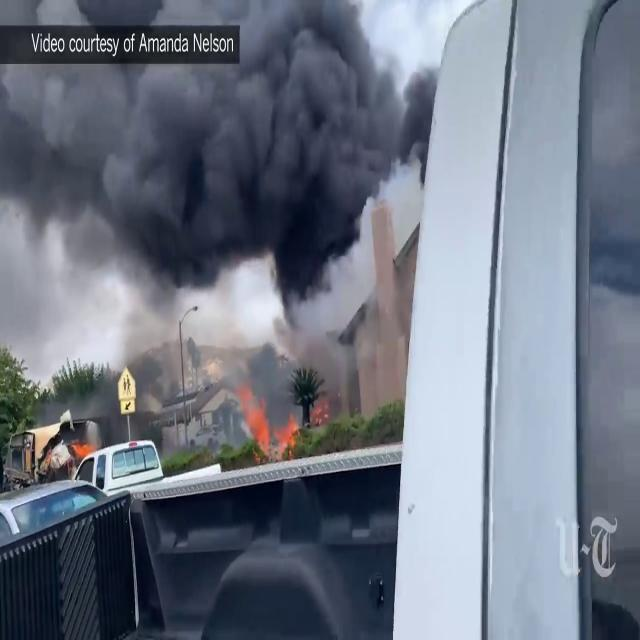Fire: (236, 381, 280, 461)
Smoke: (2, 0, 434, 289)
